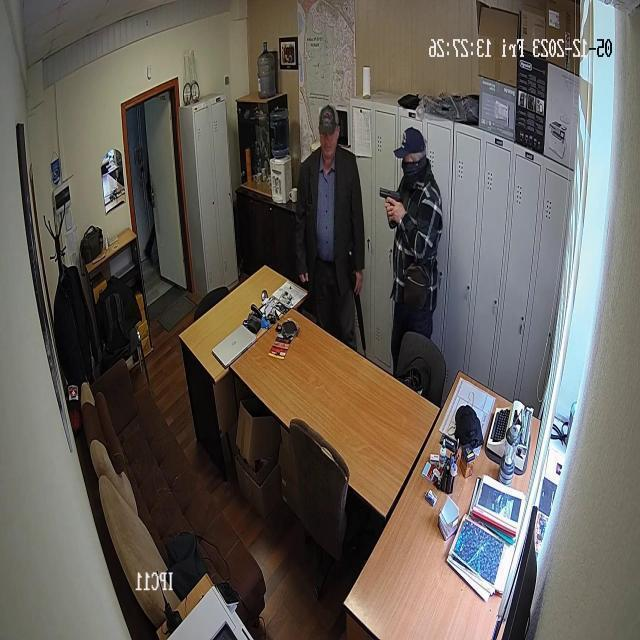pistol: (378, 184, 402, 228)
